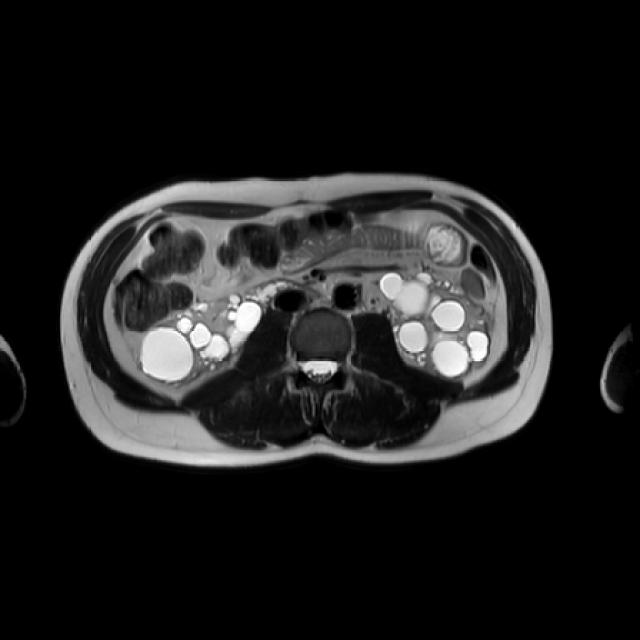sag: (141, 294, 261, 383)
sol: (379, 271, 491, 377)
